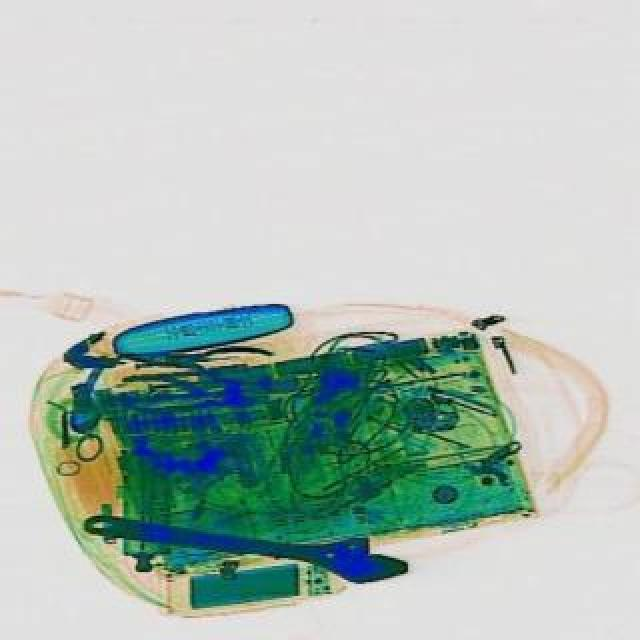scissors: (76, 498, 412, 590)
wrench: (112, 334, 274, 386), (114, 370, 252, 422)
